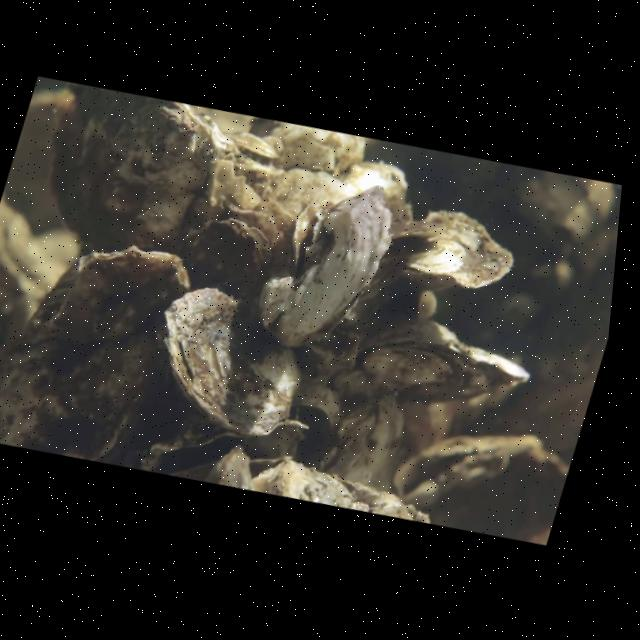Oyster-Closed: (0, 243, 202, 454), (255, 184, 397, 349), (155, 289, 301, 435), (357, 201, 541, 308), (354, 338, 533, 403)
Oyster-Indeterminate: (40, 86, 221, 252), (183, 210, 280, 296)
Oyster-Open: (390, 428, 569, 531)
